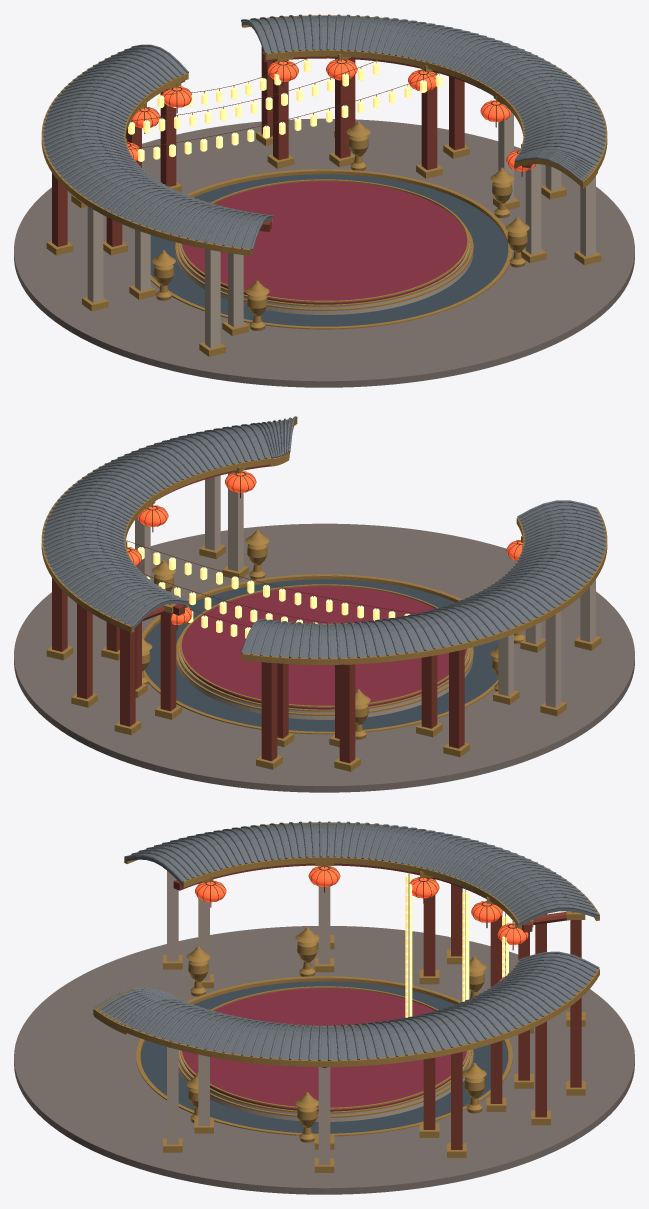
The picture shows the model from 3 angles, top to bottom: view 1: azimuth 30°, elevation 25°; view 2: azimuth 150°, elevation 25°; view 3: azimuth 270°, elevation 25°; orthographic projection.
Visible parts, largest first — view 1: WALKWAY_annular_solid_support, STAGE_solid_core, ROOF_L_thick_curved_solid, ROOF_R_thick_curved_solid, POOL_water_proxy, WALKWAY_pool_edge_band, EAVE_R_inner, EAVE_L_outer, POOL_retaining_wall, STAGE_UPPER_LIP, COL_L_OUT_0_shaft, COL_L_OUT_1_shaft (+22 smaller); view 2: WALKWAY_annular_solid_support, STAGE_solid_core, ROOF_L_thick_curved_solid, ROOF_R_thick_curved_solid, POOL_water_proxy, EAVE_L_outer, WALKWAY_pool_edge_band, COL_L_OUT_3_shaft, COL_L_OUT_4_shaft, COL_R_IN_4_shaft, COL_L_OUT_1_shaft, COL_L_OUT_2_shaft (+21 smaller); view 3: WALKWAY_annular_solid_support, STAGE_solid_core, ROOF_R_thick_curved_solid, ROOF_L_thick_curved_solid, POOL_water_proxy, EAVE_R_outer, EAVE_L_inner, WALKWAY_pool_edge_band, POOL_retaining_wall, STAGE_UPPER_LIP, COL_R_OUT_1_shaft, COL_R_OUT_2_shaft (+25 smaller).
Boxes of the visible parts, <box> form: WALKWAY_annular_solid_support: <box>14,118,634,387</box>; STAGE_solid_core: <box>182,181,467,304</box>; ROOF_L_thick_curved_solid: <box>44,46,271,250</box>; ROOF_R_thick_curved_solid: <box>242,16,604,163</box>; POOL_water_proxy: <box>150,174,508,326</box>; WALKWAY_pool_edge_band: <box>150,169,512,329</box>; EAVE_R_inner: <box>265,50,525,154</box>; EAVE_L_outer: <box>41,47,252,255</box>; POOL_retaining_wall: <box>150,171,509,326</box>; STAGE_UPPER_LIP: <box>179,179,469,302</box>; COL_L_OUT_0_shaft: <box>205,249,220,348</box>; COL_L_OUT_1_shaft: <box>87,206,103,302</box>; WALKWAY_annular_solid_support: <box>14,523,634,792</box>; STAGE_solid_core: <box>181,586,466,709</box>; ROOF_L_thick_curved_solid: <box>243,502,604,658</box>; ROOF_R_thick_curved_solid: <box>44,425,270,630</box>; POOL_water_proxy: <box>144,579,498,731</box>; EAVE_L_outer: <box>241,509,607,664</box>; WALKWAY_pool_edge_band: <box>142,574,498,734</box>; COL_L_OUT_3_shaft: <box>339,664,355,763</box>; COL_L_OUT_4_shaft: <box>261,662,277,761</box>; COL_R_IN_4_shaft: <box>160,612,176,711</box>; COL_L_OUT_1_shaft: <box>545,611,561,707</box>; COL_L_OUT_2_shaft: <box>449,649,464,748</box>; WALKWAY_annular_solid_support: <box>14,926,634,1194</box>; STAGE_solid_core: <box>182,988,466,1111</box>; ROOF_R_thick_curved_solid: <box>128,954,597,1060</box>; ROOF_L_thick_curved_solid: <box>125,823,598,926</box>; POOL_water_proxy: <box>140,981,508,1133</box>; EAVE_R_outer: <box>124,968,599,1066</box>; EAVE_L_inner: <box>181,857,521,928</box>; WALKWAY_pool_edge_band: <box>136,976,512,1136</box>; POOL_retaining_wall: <box>139,978,509,1133</box>; STAGE_UPPER_LIP: <box>180,986,468,1109</box>; COL_R_OUT_1_shaft: <box>318,1067,330,1164</box>; COL_R_OUT_2_shaft: <box>451,1052,462,1149</box>.
Size of the model in its own units: 21.6 by 5.43 by 21.6.
